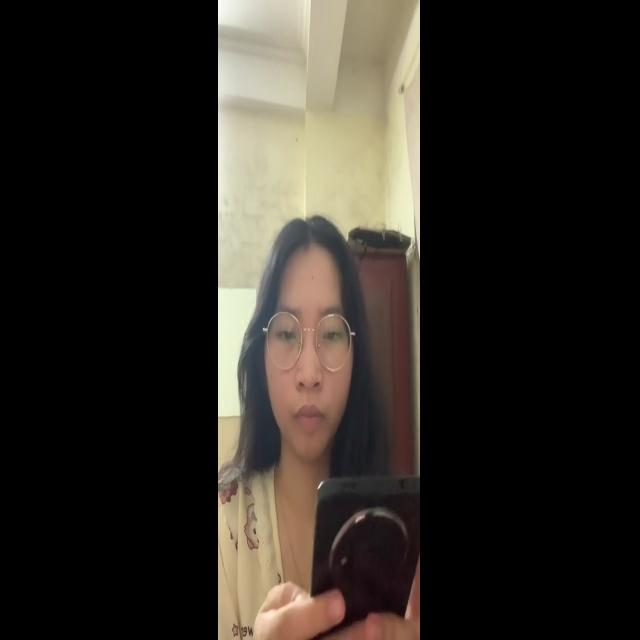phone: (306, 460, 422, 630)
student: (246, 203, 371, 464)
